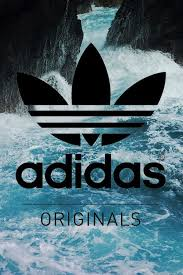adidas: (16, 43, 168, 190)
